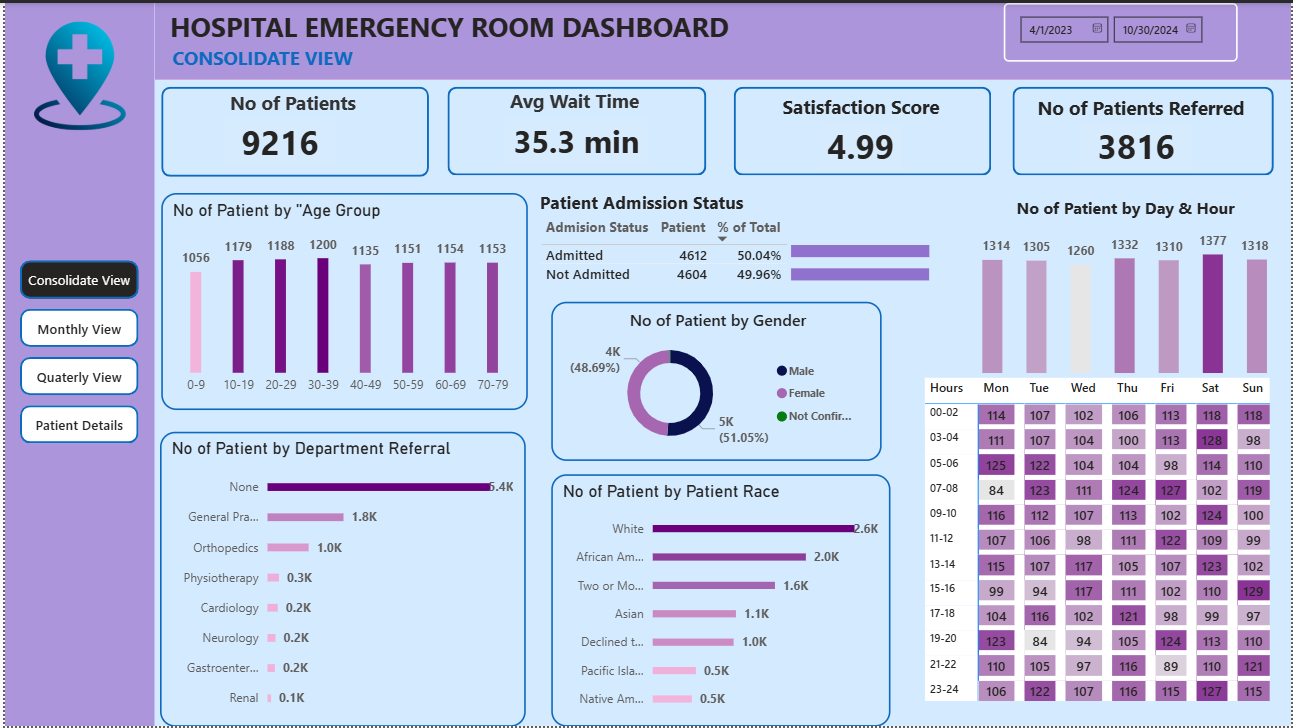

The page's visual inventory and layout, read from the dashboard file:
{"tool":"powerbi","page":{"name":"Consolidate View","canvas":[1280,720],"ordinal":0},"visuals":[{"type":"shape","box":[155.3,83.3,266.4,89.6],"z":0},{"type":"shape","box":[0,0,148.8,720],"z":1000},{"type":"shape","box":[149,0,1131.3,75.8],"z":2000},{"type":"textbox","box":[159.1,0,588.4,46.7],"z":3000},{"type":"textbox","box":[162.1,37.9,193.5,41.8],"z":4000},{"type":"card","fields":{"Values":["Hospital ER_Data.No of Patient"]},"box":[218.3,115.1,109.8,48.4],"z":5000},{"type":"textbox","box":[218.7,81.5,137.5,43.8],"z":6000},{"type":"shape","box":[440.6,83.3,257.6,88.4],"z":7000},{"type":"card","fields":{"Values":["Hospital ER_Data.Avg Wait Time"]},"box":[497.5,114.9,142.7,48],"z":8000},{"type":"textbox","box":[497.5,79,152.5,40],"z":9000},{"type":"shape","box":[1002.5,83.3,260.1,88.4],"z":10000},{"type":"card","fields":{"Values":["Hospital ER_Data.No of Patient Reffered"]},"box":[1070.8,119,109.8,47.1],"z":11000},{"type":"textbox","box":[1022.7,87.1,217.2,42.9],"z":12000},{"type":"shape","box":[724.7,83.3,256.3,88.4],"z":13000},{"type":"card","fields":{"Values":["Hospital ER_Data.Satisfaction Score"]},"box":[811.2,119,81.2,47.5],"z":14000},{"type":"textbox","box":[768.7,85.3,171.2,43.8],"z":15000},{"type":"columnChart","fields":{"Category":["Hospital ER_Data.\"Age Group"],"Y":["Hospital ER_Data.No of Patient"]},"box":[155.3,189.4,364.9,215.9],"z":16000},{"type":"clusteredBarChart","fields":{"Category":["Hospital ER_Data.Department Referral"],"Y":["Hospital ER_Data.No of Patient"]},"box":[153.8,426.2,363.8,293.8],"z":17000},{"type":"group","id":"g1","title":"Group 1","box":[527.8,186.9,439.4,108.6],"z":18000},{"type":"donutChart","title":"No of Patient by Gender","fields":{"Y":["Hospital ER_Data.No of Patient"],"Category":["Hospital ER_Data.Patient Gender"]},"box":[543.8,297.5,328.8,158.8],"z":19000},{"type":"clusteredBarChart","fields":{"Y":["Hospital ER_Data.No of Patient"],"Category":["Hospital ER_Data.Patient Race"]},"box":[543.8,468.8,337.5,251.2],"z":20000},{"type":"pivotTable","fields":{"Rows":["Hospital ER_Data.Time Interval"],"Columns":["Data Table 1.Day"],"Values":["Hospital ER_Data.No of Patient"]},"box":[881.4,368.6,398.6,351.4],"z":21000},{"type":"image","box":[15.2,13.9,118.7,117.4],"z":22000},{"type":"tableEx","title":"Patient Admission Status","fields":{"Values":["Hospital ER_Data.Admision Status","Hospital ER_Data.No of Patient1","Hospital ER_Data.No of Patient"]},"box":[527.8,186.9,419.7,104.8],"z":23000,"group":"g1"},{"type":"slicer","fields":{"Values":["Data Table 1.Date"]},"box":[993.7,0,232.7,73.2],"z":23000},{"type":"barChart","fields":{"Category":["Hospital ER_Data.Admision Status"],"Y":["Hospital ER_Data.No of Patient"]},"box":[778.2,217.2,189,78.3],"z":24000,"group":"g1"},{"type":"pageNavigator","box":[14.9,256.3,118.2,184.1],"z":25000},{"type":"columnChart","title":"No of Patient by Day & Hour","fields":{"Category":["Data Table 1.Day Name"],"Y":["Hospital ER_Data.No of Patient"]},"box":[940,194.3,322.9,181.4],"z":26000}]}

Visuals, with their boxes in screenshot pixels (x1, y1, x2, y2), scaled from the page's 1280x720 canvas onto the 1293x728 screenshot:
shape: Rect(157, 84, 426, 175)
shape: Rect(0, 0, 150, 727)
shape: Rect(151, 0, 1292, 77)
textbox: Rect(161, 0, 755, 47)
textbox: Rect(164, 38, 359, 81)
card - Hospital ER_Data.No of Patient: Rect(221, 116, 331, 165)
textbox: Rect(221, 82, 360, 127)
shape: Rect(445, 84, 705, 174)
card - Hospital ER_Data.Avg Wait Time: Rect(503, 116, 647, 165)
textbox: Rect(503, 80, 657, 120)
shape: Rect(1013, 84, 1275, 174)
card - Hospital ER_Data.No of Patient Reffered: Rect(1082, 120, 1193, 168)
textbox: Rect(1033, 88, 1252, 131)
shape: Rect(732, 84, 991, 174)
card - Hospital ER_Data.Satisfaction Score: Rect(819, 120, 901, 168)
textbox: Rect(777, 86, 949, 131)
columnChart - Hospital ER_Data."Age Group x Hospital ER_Data.No of Patient: Rect(157, 192, 525, 410)
clusteredBarChart - Hospital ER_Data.Department Referral x Hospital ER_Data.No of Patient: Rect(155, 431, 523, 727)
"Group 1" group: Rect(533, 189, 977, 299)
"No of Patient by Gender" donutChart: Rect(549, 301, 881, 461)
clusteredBarChart - Hospital ER_Data.No of Patient x Hospital ER_Data.Patient Race: Rect(549, 474, 890, 727)
pivotTable - Hospital ER_Data.Time Interval x Data Table 1.Day: Rect(890, 373, 1292, 727)
image: Rect(15, 14, 135, 133)
"Patient Admission Status" tableEx: Rect(533, 189, 957, 295)
slicer - Data Table 1.Date: Rect(1004, 0, 1239, 74)
barChart - Hospital ER_Data.Admision Status x Hospital ER_Data.No of Patient: Rect(786, 220, 977, 299)
pageNavigator: Rect(15, 259, 134, 445)
"No of Patient by Day & Hour" columnChart: Rect(950, 196, 1276, 380)
